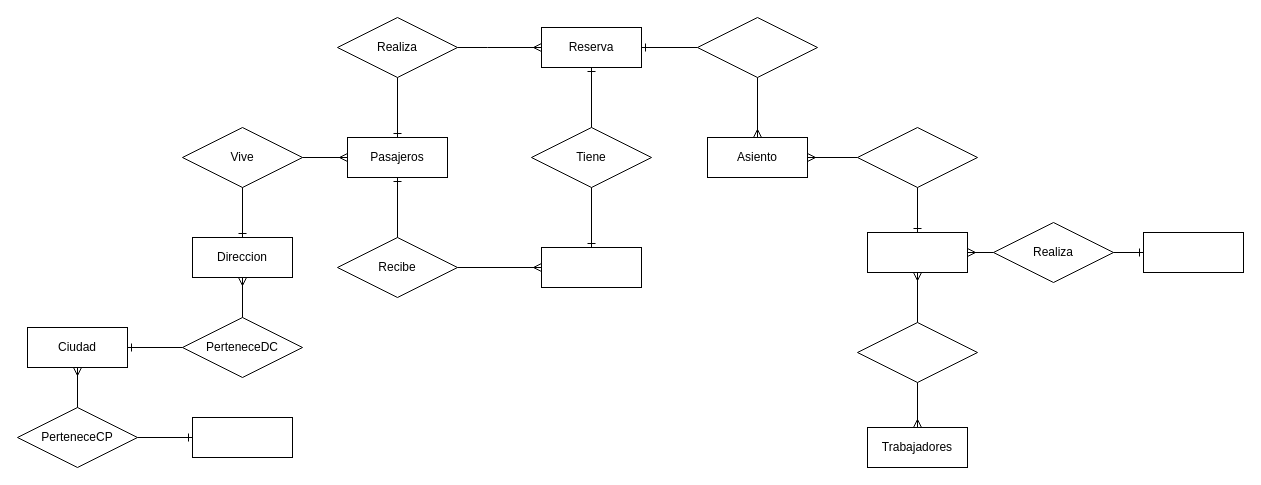
Image size: 1261x485. Some labels were removed from this diagram. The box of each missing label's shape, as (x1, y1, x2, y2) in pixels:
Aviones: (1142, 232, 1244, 272)
Factura: (540, 246, 642, 288)
Pais: (192, 416, 292, 458)
Pertenece: (856, 126, 978, 188)
RellenaLR: (696, 16, 818, 78)
Vuelos: (866, 232, 968, 272)
VuelosTrabajadores: (856, 322, 978, 382)
